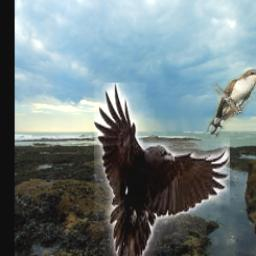Crow: (94, 84, 230, 256)
Cuckoo: (205, 70, 256, 139)
